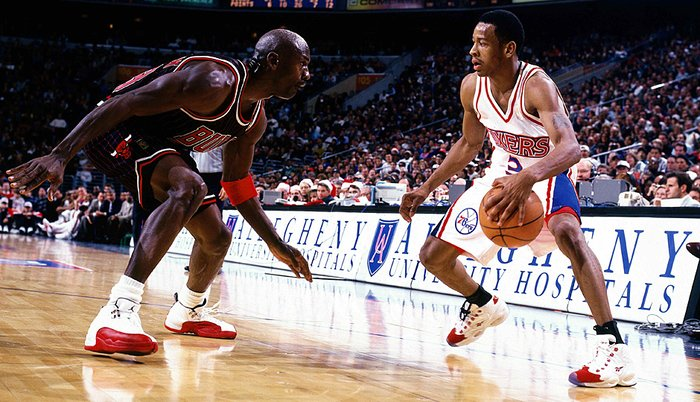basketball: (477, 186, 545, 249)
